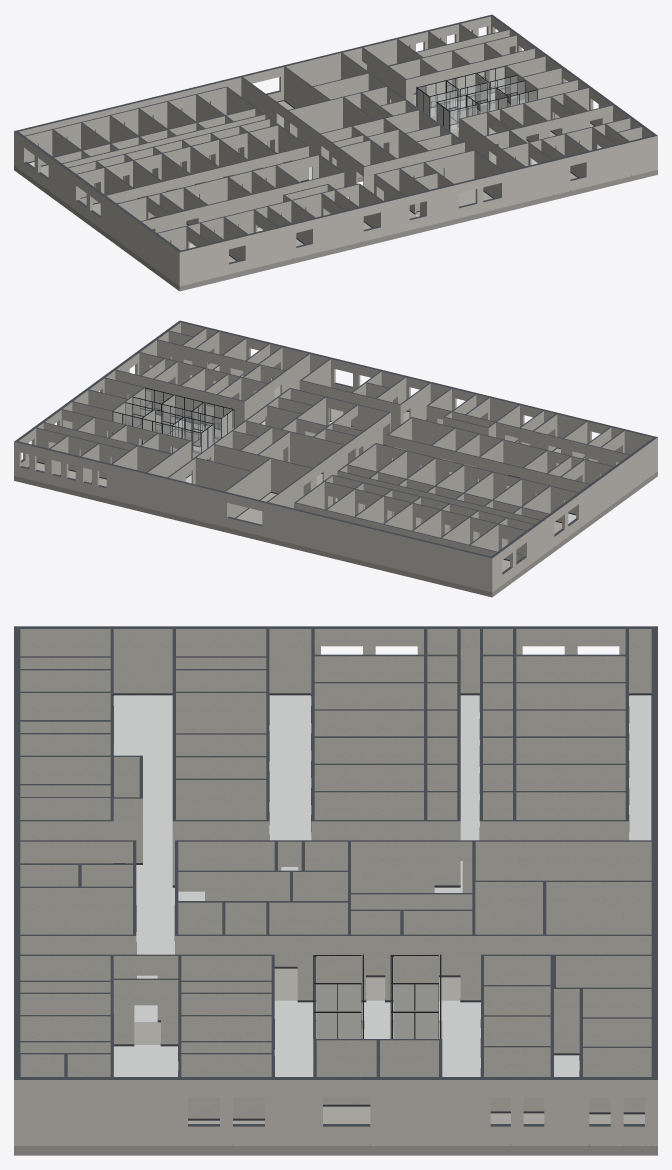
File: 16_n2_estructura.glb
3 views of the same model, one above another, from view 1: azimuth 30°, elevation 25°; view 2: azimuth 150°, elevation 25°; view 3: azimuth 270°, elevation 25° (orthographic). The views are drawn at different scales.
Visible parts, largest first — view 1: Muros N2, Losa N2, Piso de pasillos N2; view 2: Muros N2, Losa N2, Piso de pasillos N2; view 3: Muros N2, Piso de pasillos N2, Losa N2, Zoclo N2.
Boxes of the visible parts, box(x1,y1,x2,y2) form: Muros N2: box(14, 14, 657, 286); Losa N2: box(14, 78, 657, 291); Piso de pasillos N2: box(29, 90, 601, 248); Muros N2: box(14, 320, 657, 592); Losa N2: box(14, 366, 657, 597); Piso de pasillos N2: box(141, 411, 575, 523); Muros N2: box(14, 626, 657, 1145); Piso de pasillos N2: box(113, 695, 651, 1076); Losa N2: box(14, 968, 657, 1155); Zoclo N2: box(113, 693, 651, 1145).
Bounding box in the file's own units: 50 × 3.9 × 30.
10 materials, 1 textured.
